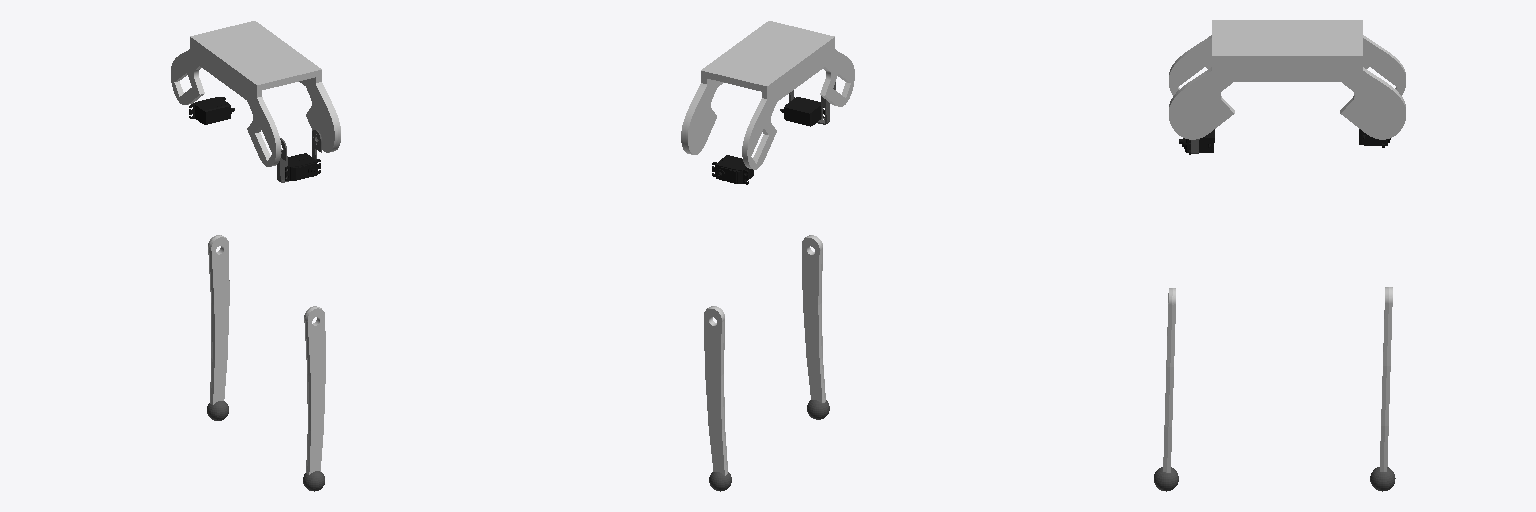
robot.urdf — jerbotBeta:
<?xml version="1.0"?>
<!-- created with Phobos 1.0.1 "Capricious Choutengan" -->
  <robot name="jerbotBeta">

    <link name="base">
      <inertial>
        <origin xyz="0 0 -0.06825" rpy="0 0 0"/>
        <mass value="0.5"/>
        <inertia ixx="0.00279" ixy="2e-05" ixz="0" iyy="0.00134" iyz="3e-05" izz="0.00237"/>
      </inertial>
      <visual name="base_plate">
        <origin xyz="0 0 -0.06825" rpy="0 -3.14159 0"/>
        <geometry>
          <mesh filename="../meshes/stl/Part__Feature.stl" scale="1.0 1.0 1.0"/>
        </geometry>
        <material name="Part__Feature"/>
      </visual>
      <visual name="roll_motor_left">
        <origin xyz="-0.04894 0.11424 -0.07957" rpy="0 -3.14159 0"/>
        <geometry>
          <mesh filename="../meshes/stl/Part__Feature006.stl" scale="1.0 1.0 1.0"/>
        </geometry>
        <material name="Part__Feature006"/>
      </visual>
      <visual name="roll_motor_right">
        <origin xyz="-0.04894 -0.10805 -0.08343" rpy="0 -3.14159 0"/>
        <geometry>
          <mesh filename="../meshes/stl/Part__Feature001.stl" scale="1.0 1.0 1.0"/>
        </geometry>
        <material name="Part__Feature001"/>
      </visual>
      <collision name="base_plate.000">
        <origin xyz="0.00125 -0.00037 -0.06878" rpy="0 -3.14159 0"/>
        <geometry>
          <mesh filename="../meshes/stl/Part__Feature.002.stl" scale="1.0 1.0 1.0"/>
        </geometry>
      </collision>
      <collision name="roll_motor_left.000">
        <origin xyz="-0.04689 0.11542 -0.08101" rpy="0 -3.14159 0"/>
        <geometry>
          <mesh filename="../meshes/stl/Part__Feature006.002.stl" scale="1.0 1.0 1.0"/>
        </geometry>
      </collision>
      <collision name="roll_motor_right.000">
        <origin xyz="-0.04689 -0.10807 -0.08269" rpy="0 -3.14159 0"/>
        <geometry>
          <mesh filename="../meshes/stl/Part__Feature001.002.stl" scale="1.0 1.0 1.0"/>
        </geometry>
      </collision>
    </link>

    <link name="foot_left">
      <inertial>
        <origin xyz="0 0 0" rpy="0 0 0"/>
        <mass value="0.001"/>
        <inertia ixx="0.001" ixy="0" ixz="0" iyy="0.001" iyz="0" izz="0.001"/>
      </inertial>
      <visual name="Sphere">
        <origin xyz="0 0 0" rpy="0 0 0"/>
        <geometry>
          <sphere radius="0.015"/>
        </geometry>
        <material name="Material"/>
      </visual>
    </link>

    <link name="foot_right">
      <inertial>
        <origin xyz="0 0 0" rpy="0 0 0"/>
        <mass value="0.001"/>
        <inertia ixx="0.001" ixy="0" ixz="0" iyy="0.001" iyz="0" izz="0.001"/>
      </inertial>
      <visual name="Sphere.001">
        <origin xyz="0 0 0" rpy="0 0 0"/>
        <geometry>
          <sphere radius="0.015"/>
        </geometry>
        <material name="Material.001"/>
      </visual>
    </link>

    <link name="hip_pitch_left">
      <inertial>
        <origin xyz="-0.00069 -0.10044 0.00938" rpy="0 0 0"/>
        <mass value="0.1"/>
        <inertia ixx="0.00058" ixy="0" ixz="0" iyy="0.00058" iyz="0" izz="2e-05"/>
      </inertial>
      <visual name="left_upper_leg">
        <origin xyz="-0.00069 -0.10044 0.00938" rpy="1.5708 0 0"/>
        <geometry>
          <mesh filename="../meshes/stl/Part__Feature010.stl" scale="1.0 1.0 1.0"/>
        </geometry>
        <material name="Part__Feature010"/>
      </visual>
      <collision name="node10.000">
        <origin xyz="-0.00234 -0.10365 0.00823" rpy="1.5708 0 0"/>
        <geometry>
          <mesh filename="../meshes/stl/Part__Feature010.001.stl" scale="1.0 1.0 1.0"/>
        </geometry>
      </collision>
    </link>

    <link name="hip_pitch_right">
      <inertial>
        <origin xyz="0.00076 0.10128 0.01511" rpy="0 0 0"/>
        <mass value="0.1"/>
        <inertia ixx="0.00058" ixy="0" ixz="0" iyy="0.00058" iyz="0" izz="2e-05"/>
      </inertial>
      <visual name="right_upper_leg">
        <origin xyz="0.00076 0.10128 0.01511" rpy="-1.5708 0 0"/>
        <geometry>
          <mesh filename="../meshes/stl/Part__Feature004.stl" scale="1.0 1.0 1.0"/>
        </geometry>
        <material name="Part__Feature004"/>
      </visual>
      <collision name="node4.000">
        <origin xyz="-0.00142 0.10714 0.01621" rpy="-1.5708 0 0"/>
        <geometry>
          <mesh filename="../meshes/stl/Part__Feature004.001.stl" scale="1.0 1.0 1.0"/>
        </geometry>
      </collision>
    </link>

    <link name="hip_roll_left">
      <inertial>
        <origin xyz="-0.0408 -0.01132 -0.03022" rpy="0 0 0"/>
        <mass value="0.1"/>
        <inertia ixx="2e-05" ixy="0" ixz="0" iyy="8e-05" iyz="0" izz="0.0001"/>
      </inertial>
      <visual name="pitch_motor_left">
        <origin xyz="-0.0408 -0.01132 -0.03022" rpy="0 -1.5708 0"/>
        <geometry>
          <mesh filename="../meshes/stl/Part__Feature009.stl" scale="1.0 1.0 1.0"/>
        </geometry>
        <material name="Part__Feature009"/>
      </visual>
      <visual name="roll_hinge_left">
        <origin xyz="-0.01121 -0.0021 -0.02381" rpy="0 -1.5708 0"/>
        <geometry>
          <mesh filename="../meshes/stl/Part__Feature008.stl" scale="1.0 1.0 1.0"/>
        </geometry>
        <material name="Part__Feature008"/>
      </visual>
      <collision name="node8.000">
        <origin xyz="-0.01075 -0.00115 -0.02399" rpy="0 -1.5708 0"/>
        <geometry>
          <mesh filename="../meshes/stl/Part__Feature008.001.stl" scale="1.0 1.0 1.0"/>
        </geometry>
      </collision>
      <collision name="node9.000">
        <origin xyz="-0.04083 -0.01132 -0.03024" rpy="0 -1.5708 0"/>
        <geometry>
          <mesh filename="../meshes/stl/Part__Feature009.001.stl" scale="1.0 1.0 1.0"/>
        </geometry>
      </collision>
    </link>

    <link name="hip_roll_right">
      <inertial>
        <origin xyz="-0.04086 0.01009 -0.04453" rpy="0 0 0"/>
        <mass value="0.1"/>
        <inertia ixx="2e-05" ixy="0" ixz="0" iyy="8e-05" iyz="0" izz="0.0001"/>
      </inertial>
      <visual name="pitch_motor_right">
        <origin xyz="-0.04086 0.01009 -0.04453" rpy="0 -1.5708 0"/>
        <geometry>
          <mesh filename="../meshes/stl/Part__Feature003.stl" scale="1.0 1.0 1.0"/>
        </geometry>
        <material name="Part__Feature003"/>
      </visual>
      <visual name="roll_hinge_right">
        <origin xyz="-0.01052 0.00044 -0.02218" rpy="0 -1.5708 0"/>
        <geometry>
          <mesh filename="../meshes/stl/Part__Feature002.stl" scale="1.0 1.0 1.0"/>
        </geometry>
        <material name="Part__Feature002"/>
      </visual>
      <collision name="node2.000">
        <origin xyz="-0.01052 -0.00086 -0.02234" rpy="0 -1.5708 0"/>
        <geometry>
          <mesh filename="../meshes/stl/Part__Feature002.001.stl" scale="1.0 1.0 1.0"/>
        </geometry>
      </collision>
      <collision name="node3.000">
        <origin xyz="-0.04083 0.00886 -0.04408" rpy="0 -1.5708 0"/>
        <geometry>
          <mesh filename="../meshes/stl/Part__Feature003.001.stl" scale="1.0 1.0 1.0"/>
        </geometry>
      </collision>
    </link>

    <link name="knee_pitch_left">
      <inertial>
        <origin xyz="0.00694 -0.22948 -0.00354" rpy="0 0 0"/>
        <mass value="0.01"/>
        <inertia ixx="2e-05" ixy="0" ixz="0" iyy="2e-05" iyz="0" izz="2e-05"/>
      </inertial>
      <visual name="left_lower_leg">
        <origin xyz="0.00105 -0.03384 0.00481" rpy="1.5708 0 0"/>
        <geometry>
          <mesh filename="../meshes/stl/Part__Feature012.stl" scale="1.0 1.0 1.0"/>
        </geometry>
        <material name="Part__Feature012"/>
      </visual>
      <collision name="Sphere">
        <origin xyz="0.0044 -0.2311 -0.00113" rpy="1.5708 0 3.14159"/>
        <geometry>
          <sphere radius="0.015"/>
        </geometry>
      </collision>
      <collision name="node12.000">
        <origin xyz="0.0013 -0.03298 0.00275" rpy="1.5708 0 0"/>
        <geometry>
          <mesh filename="../meshes/stl/Part__Feature012.001.stl" scale="1.0 1.0 1.0"/>
        </geometry>
      </collision>
    </link>

    <link name="knee_pitch_right">
      <inertial>
        <origin xyz="0.00628 0.23309 0.00906" rpy="0 0 0"/>
        <mass value="0.01"/>
        <inertia ixx="2e-05" ixy="0" ixz="0" iyy="2e-05" iyz="0" izz="2e-05"/>
      </inertial>
      <visual name="right_lower_leg">
        <origin xyz="0.00114 0.03509 0.00635" rpy="-1.5708 0 0"/>
        <geometry>
          <mesh filename="../meshes/stl/Part__Feature005.stl" scale="1.0 1.0 1.0"/>
        </geometry>
        <material name="Part__Feature005"/>
      </visual>
      <collision name="Sphere.001">
        <origin xyz="0.0046 0.23103 0.01234" rpy="-1.5708 0 -3.14159"/>
        <geometry>
          <sphere radius="0.015"/>
        </geometry>
      </collision>
      <collision name="node5.000">
        <origin xyz="0.00074 0.03454 0.00841" rpy="-1.5708 0 0"/>
        <geometry>
          <mesh filename="../meshes/stl/Part__Feature005.001.stl" scale="1.0 1.0 1.0"/>
        </geometry>
      </collision>
    </link>

    <joint name="foot_left" type="fixed">
      <origin xyz="0.0044 -0.2311 -0.00113" rpy="1.5708 0 3.14159"/>
      <parent link="knee_pitch_left"/>
      <child link="foot_left"/>
    </joint>

    <joint name="foot_right" type="fixed">
      <origin xyz="0.0046 0.23103 0.01234" rpy="-1.5708 0 -3.14159"/>
      <parent link="knee_pitch_right"/>
      <child link="foot_right"/>
    </joint>

    <joint name="hip_pitch_left" type="continuous">
      <origin xyz="-0.04213 0.00101 -0.0394" rpy="-1.5708 -1.5708 0"/>
      <parent link="hip_roll_left"/>
      <child link="hip_pitch_left"/>
      <axis xyz="0 0 1.0"/>
      <limit effort="0" velocity="0"/>
    </joint>

    <joint name="hip_pitch_right" type="continuous">
      <origin xyz="-0.03981 -0.00425 -0.04031" rpy="1.5708 -1.5708 0"/>
      <parent link="hip_roll_right"/>
      <child link="hip_pitch_right"/>
      <axis xyz="0 0 1.0"/>
      <limit effort="0" velocity="0"/>
    </joint>

    <joint name="hip_roll_left" type="continuous">
      <origin xyz="-0.02288 0.112 -0.07697" rpy="0 -1.5708 0"/>
      <parent link="base"/>
      <child link="hip_roll_left"/>
      <axis xyz="0 0 1.0"/>
      <limit effort="0" velocity="0"/>
    </joint>

    <joint name="hip_roll_right" type="continuous">
      <origin xyz="-0.02277 -0.11719 -0.07968" rpy="0 -1.5708 0"/>
      <parent link="base"/>
      <child link="hip_roll_right"/>
      <axis xyz="0 0 1.0"/>
      <limit effort="0" velocity="0"/>
    </joint>

    <joint name="knee_pitch_left" type="continuous">
      <origin xyz="0.00427 -0.21372 -0.00179" rpy="0 0 0"/>
      <parent link="hip_pitch_left"/>
      <child link="knee_pitch_left"/>
      <axis xyz="0 0 1.0"/>
      <limit effort="0" velocity="0"/>
    </joint>

    <joint name="knee_pitch_right" type="continuous">
      <origin xyz="0.00508 0.2134 0.01171" rpy="0 0 0"/>
      <parent link="hip_pitch_right"/>
      <child link="knee_pitch_right"/>
      <axis xyz="0 0 1.0"/>
      <limit effort="0" velocity="0"/>
    </joint>

    <material name="Material">
      <color rgba="0.36 0.36 0.36 1.0"/>
    </material>

    <material name="Material.001">
      <color rgba="0.36 0.36 0.36 1.0"/>
    </material>

    <material name="Part__Feature">
      <color rgba="0.8 0.8 0.8 1.0"/>
    </material>

    <material name="Part__Feature001">
      <color rgba="0.8 0.8 0.8 1.0"/>
    </material>

    <material name="Part__Feature002">
      <color rgba="0.4 0.4 0.4 1.0"/>
    </material>

    <material name="Part__Feature003">
      <color rgba="0.14 0.14 0.14 1.0"/>
    </material>

    <material name="Part__Feature004">
      <color rgba="0.8 0.8 0.8 1.0"/>
    </material>

    <material name="Part__Feature005">
      <color rgba="0.8 0.8 0.8 1.0"/>
    </material>

    <material name="Part__Feature006">
      <color rgba="0.8 0.8 0.8 1.0"/>
    </material>

    <material name="Part__Feature008">
      <color rgba="0.28911 0.28911 0.28911 1.0"/>
    </material>

    <material name="Part__Feature009">
      <color rgba="0.14 0.14 0.14 1.0"/>
    </material>

    <material name="Part__Feature010">
      <color rgba="0.8 0.8 0.8 1.0"/>
    </material>

    <material name="Part__Feature012">
      <color rgba="0.8 0.8 0.8 1.0"/>
    </material>

  </robot>

--- Facts derived from the render (not from the file) ---
Views: 3 orthographic renders of the robot side by side, from view 1: azimuth 30°, elevation 25°; view 2: azimuth 150°, elevation 25°; view 3: azimuth 270°, elevation 25°.
Robot: jerbotBeta — 9 links, 8 joints (6 continuous, 2 fixed); root link base; default pose: every joint at zero.
Links seen in each view (by area): view 1: base, knee_pitch_left, knee_pitch_right, hip_roll_right, hip_roll_left; view 2: base, knee_pitch_left, knee_pitch_right, hip_roll_right, hip_roll_left; view 3: base, knee_pitch_left, knee_pitch_right, hip_roll_right.
Link boxes in pixels (x1=…): base: x1=171, y1=21, x2=340, y2=166; knee_pitch_left: x1=208, y1=235, x2=229, y2=404; knee_pitch_right: x1=304, y1=306, x2=325, y2=474; hip_roll_right: x1=277, y1=130, x2=321, y2=182; hip_roll_left: x1=189, y1=97, x2=234, y2=124; base: x1=681, y1=21, x2=854, y2=169; knee_pitch_left: x1=704, y1=306, x2=727, y2=475; knee_pitch_right: x1=802, y1=235, x2=825, y2=403; hip_roll_right: x1=780, y1=82, x2=835, y2=126; hip_roll_left: x1=712, y1=155, x2=753, y2=184; base: x1=1169, y1=20, x2=1405, y2=139; knee_pitch_left: x1=1380, y1=287, x2=1392, y2=471; knee_pitch_right: x1=1163, y1=288, x2=1175, y2=472; hip_roll_right: x1=1179, y1=129, x2=1214, y2=154.
Bounding box of the posed robot: 0.1 × 0.2984 × 0.5854 m (x, y, z).
Meshes: 11 distinct files referenced, 6 mesh visuals loaded (6 binary STL); not drawn: 5 (reference not matched to a file when rendering).